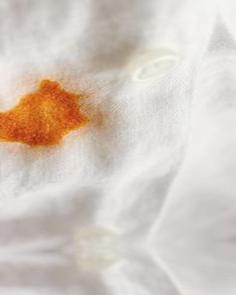stain: (1, 75, 109, 155)
